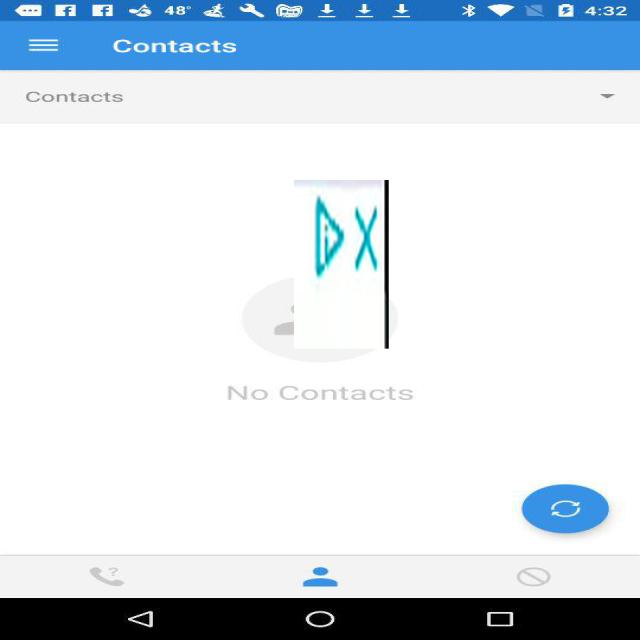sneaking: (294, 180, 389, 349)
